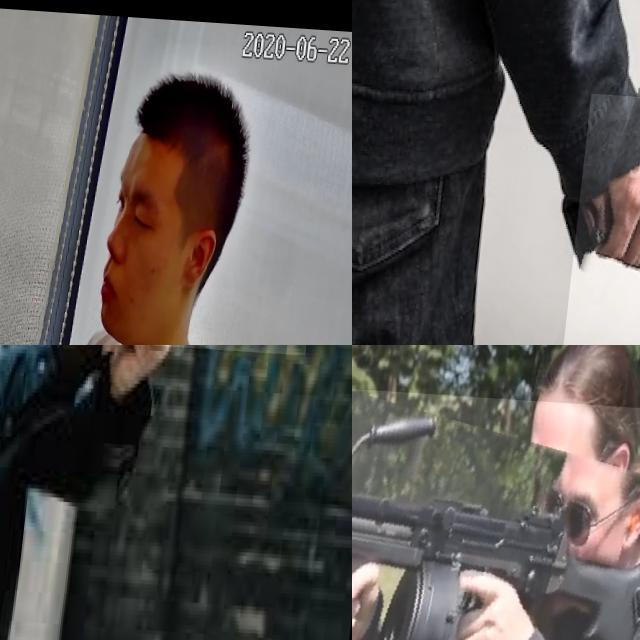gun-knife-thesis - v11 Yolov5 augmented: (352, 375, 640, 640), (59, 345, 336, 493), (569, 88, 640, 345), (0, 93, 55, 345)
